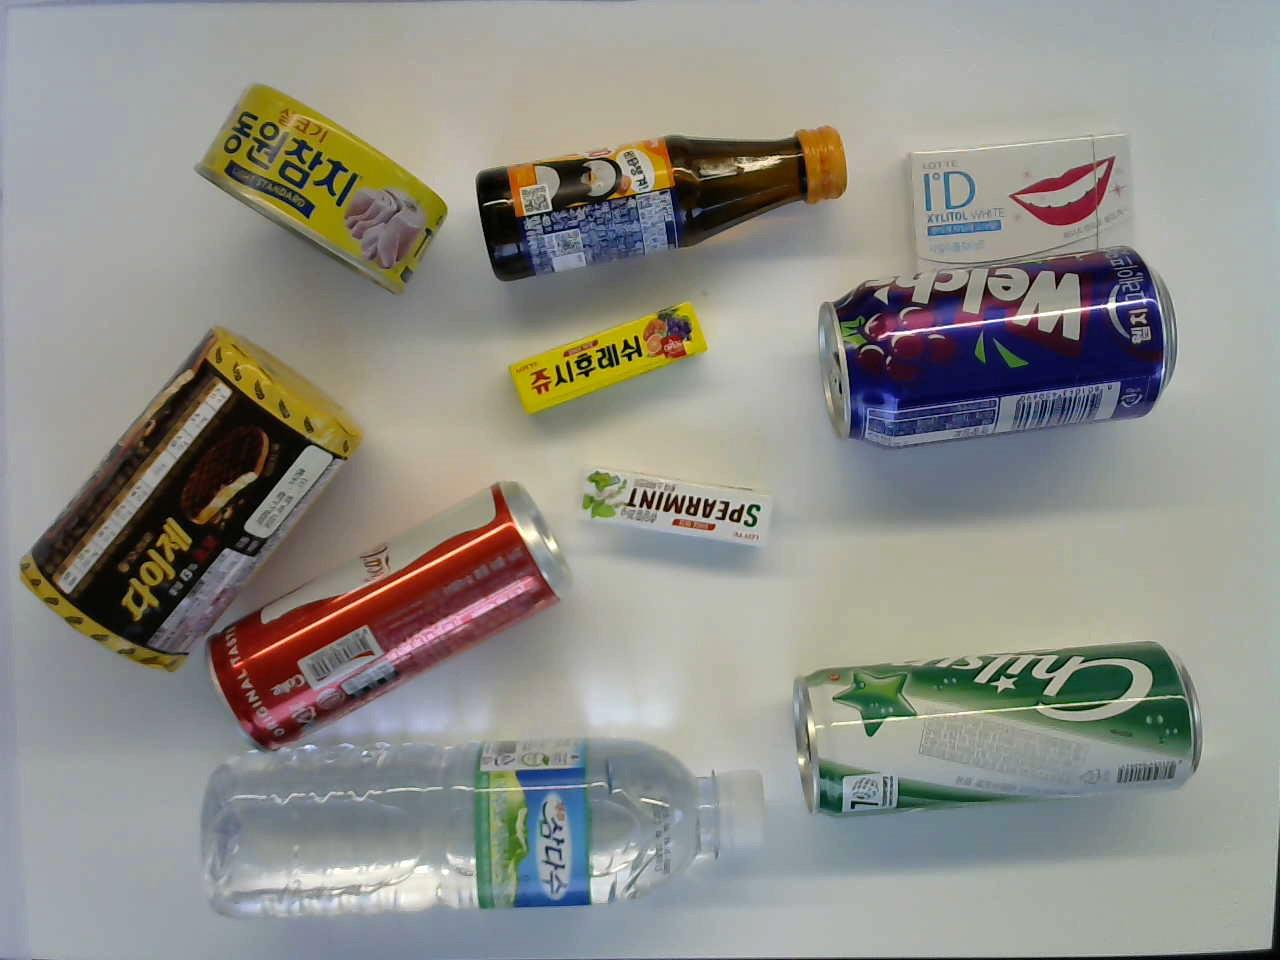ID_gum: (898, 130, 1150, 280)
cidar: (789, 634, 1210, 822)
coke: (198, 472, 572, 758)
diget_choco: (14, 318, 367, 678)
juicyfresh: (502, 301, 712, 417)
samdasu: (188, 733, 771, 927)
spearmint: (569, 461, 784, 551)
tuna: (193, 83, 451, 306)
vita500: (474, 115, 852, 285)
welchs: (812, 248, 1199, 448)
